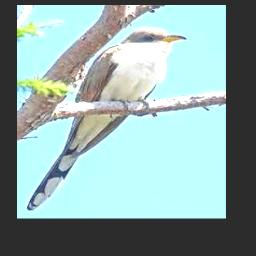Cuckoo: (27, 27, 188, 210)
